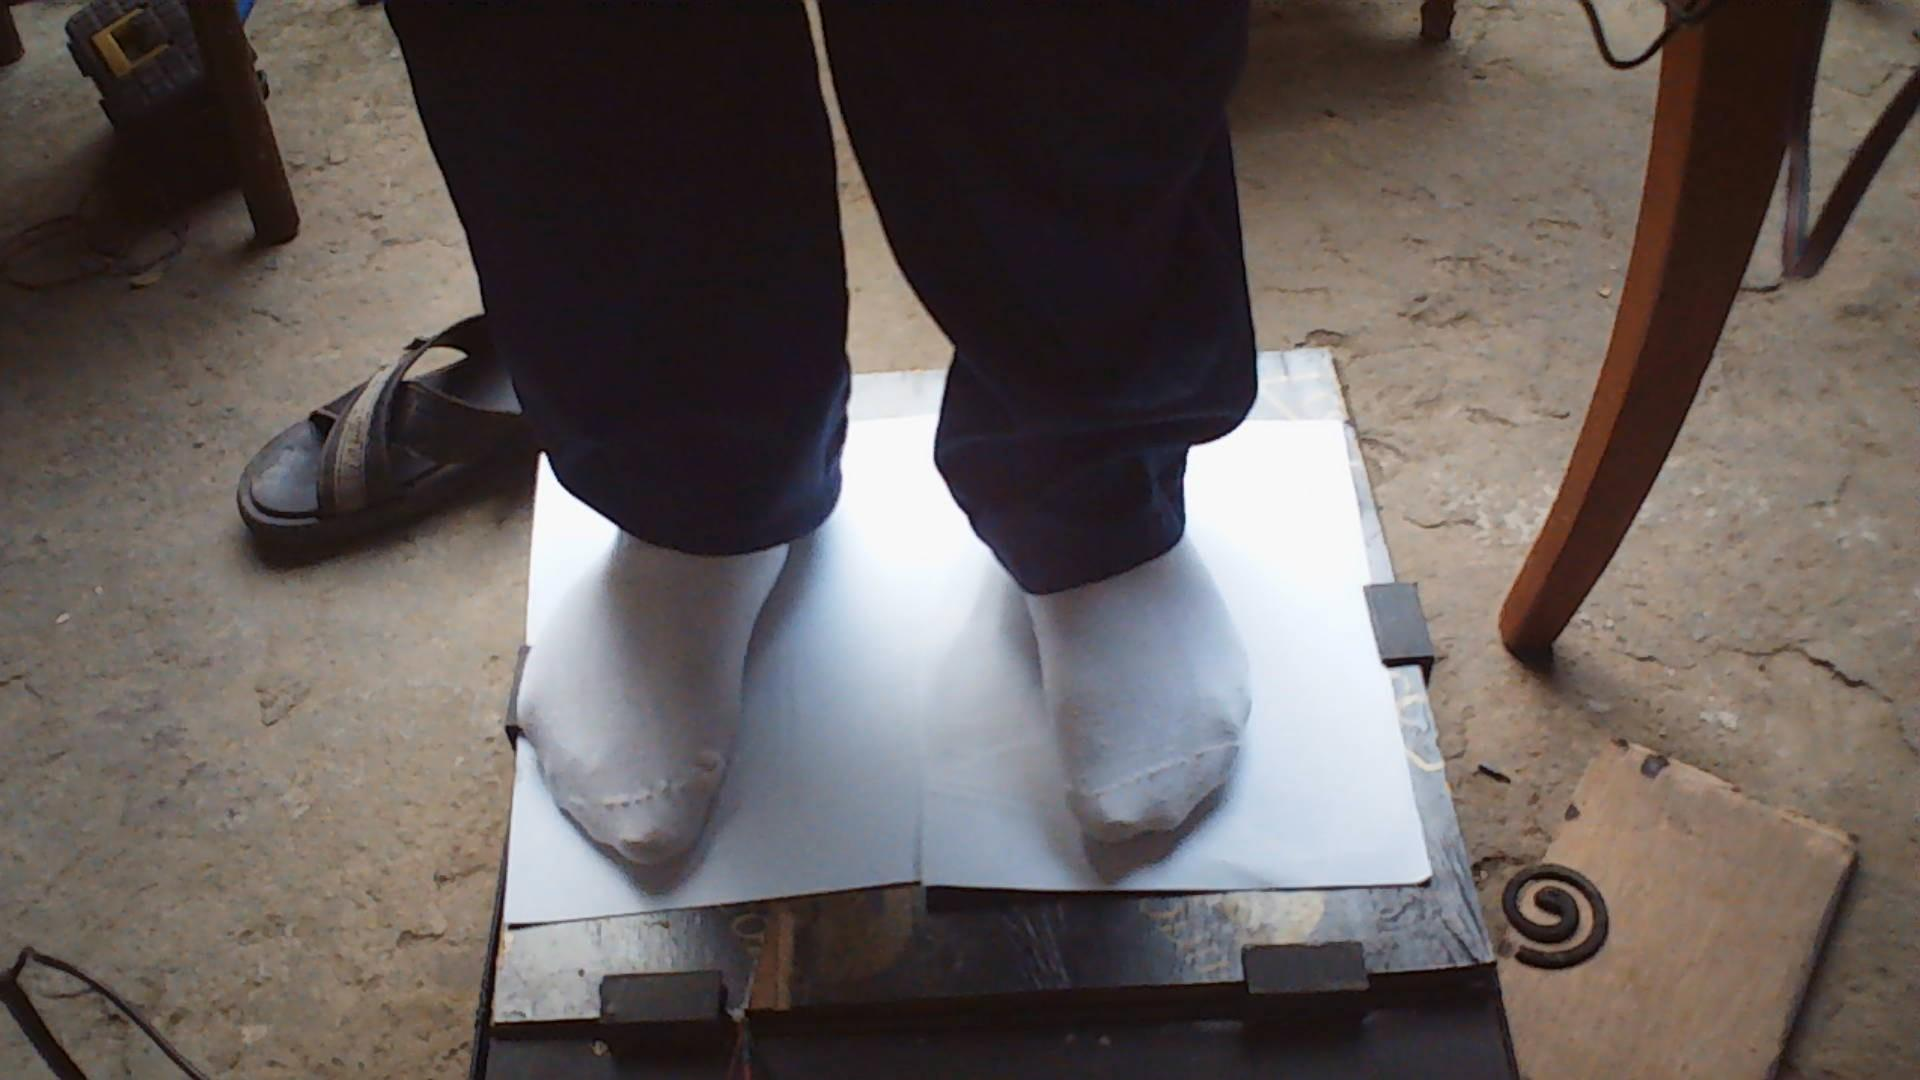white_socks: (880, 320, 1357, 899), (500, 335, 924, 898)
